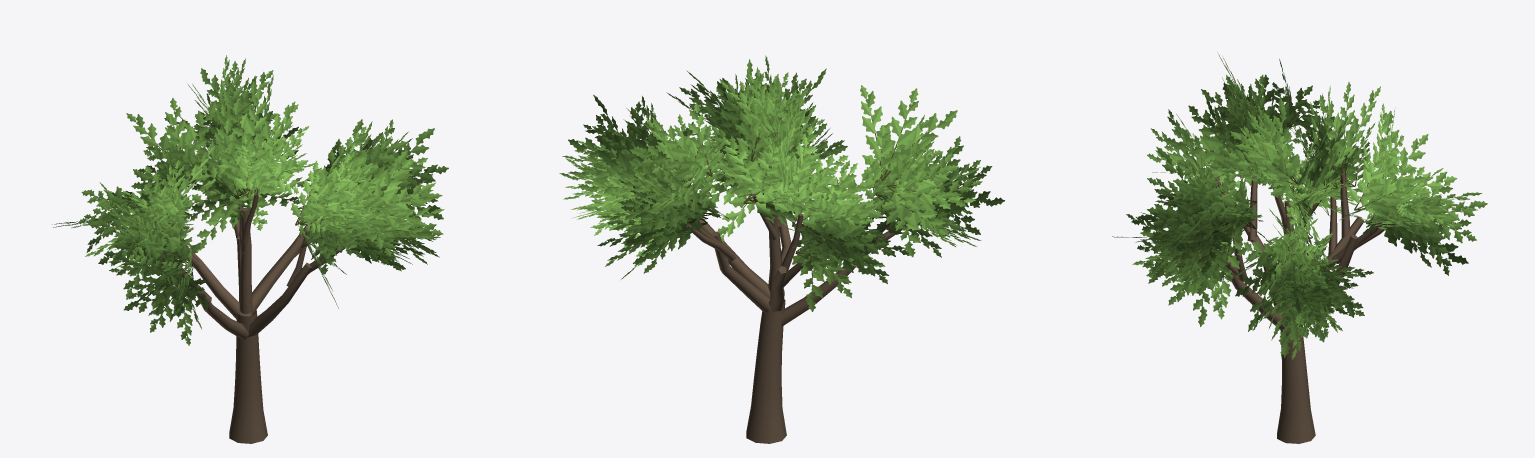
File: oak_2_mid.glb
3 renders of one model, left to right at view 1: azimuth 30°, elevation 25°; view 2: azimuth 150°, elevation 25°; view 3: azimuth 270°, elevation 25°, orthographic. The views are drawn at different scales.
Visible parts, largest first — view 1: oak_2_mid; view 2: oak_2_mid; view 3: oak_2_mid.
Boxes of the visible parts, x1=… form: oak_2_mid: x1=52, y1=55, x2=448, y2=443; oak_2_mid: x1=559, y1=55, x2=1004, y2=443; oak_2_mid: x1=1112, y1=54, x2=1487, y2=443.
Size of the model in its own units: 11.63 by 9.17 by 9.93.
Materials: 2 (1 with a texture image).
